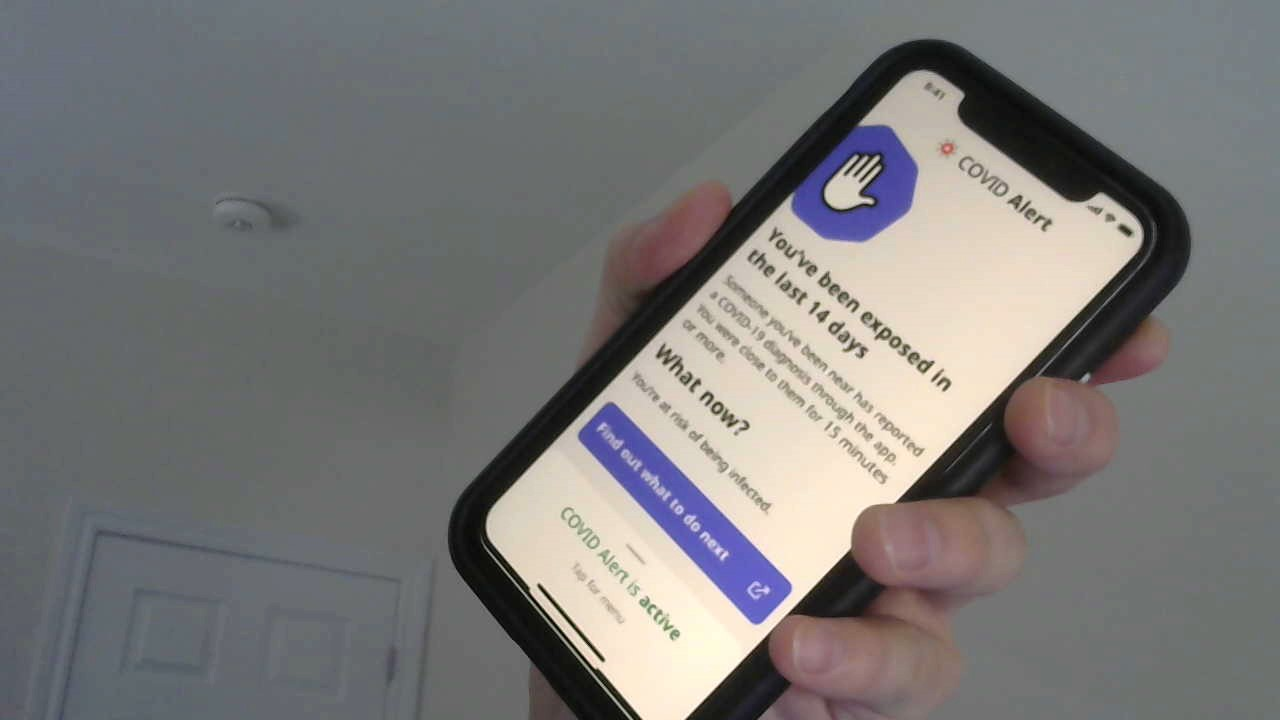Exposed: (733, 94, 1033, 413)
